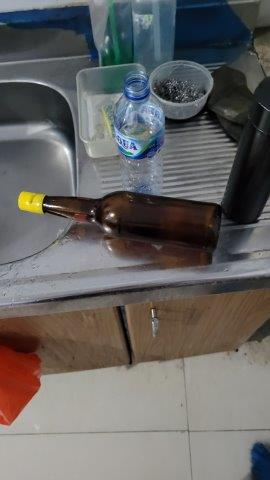botolkaca: (17, 189, 224, 256)
